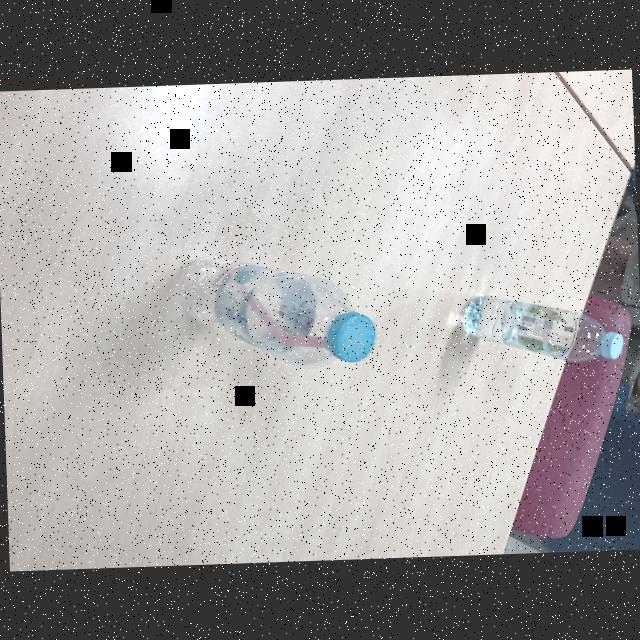plastic_bottle: (172, 249, 379, 374), (457, 289, 624, 366)
plastic_bottle_cap: (324, 311, 379, 364), (596, 330, 622, 358)
straw: (235, 278, 329, 354)
